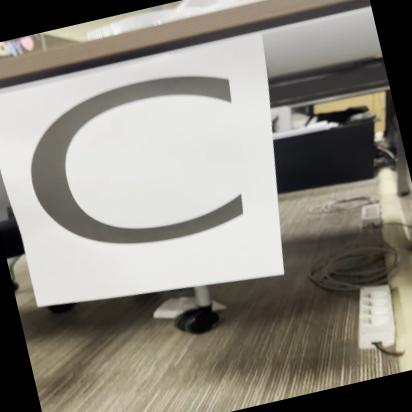seat: (0, 49, 290, 313)
